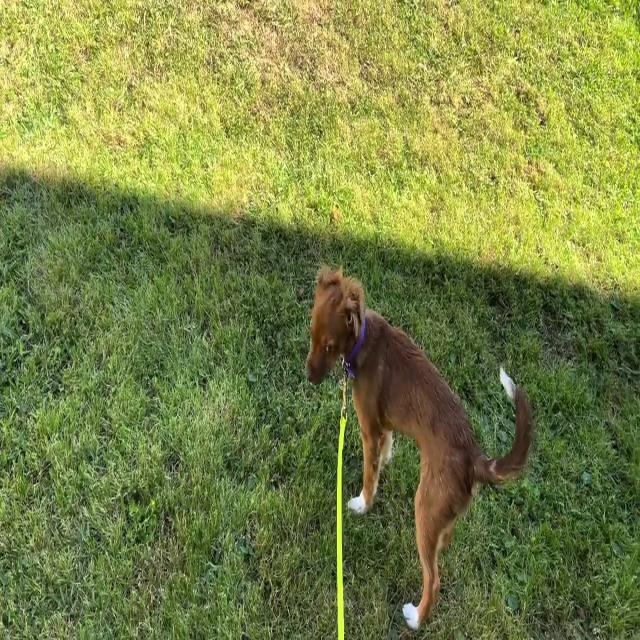Dog: (306, 266, 532, 630)
